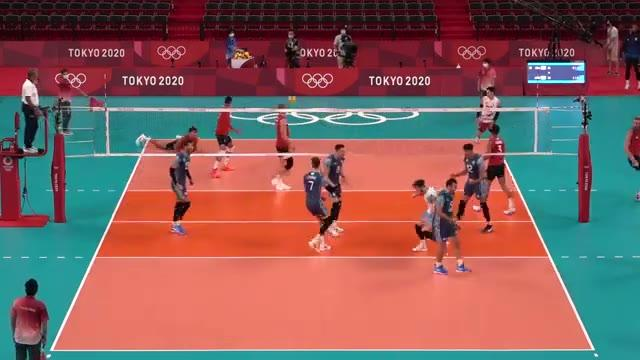ball: (289, 94, 297, 103)
